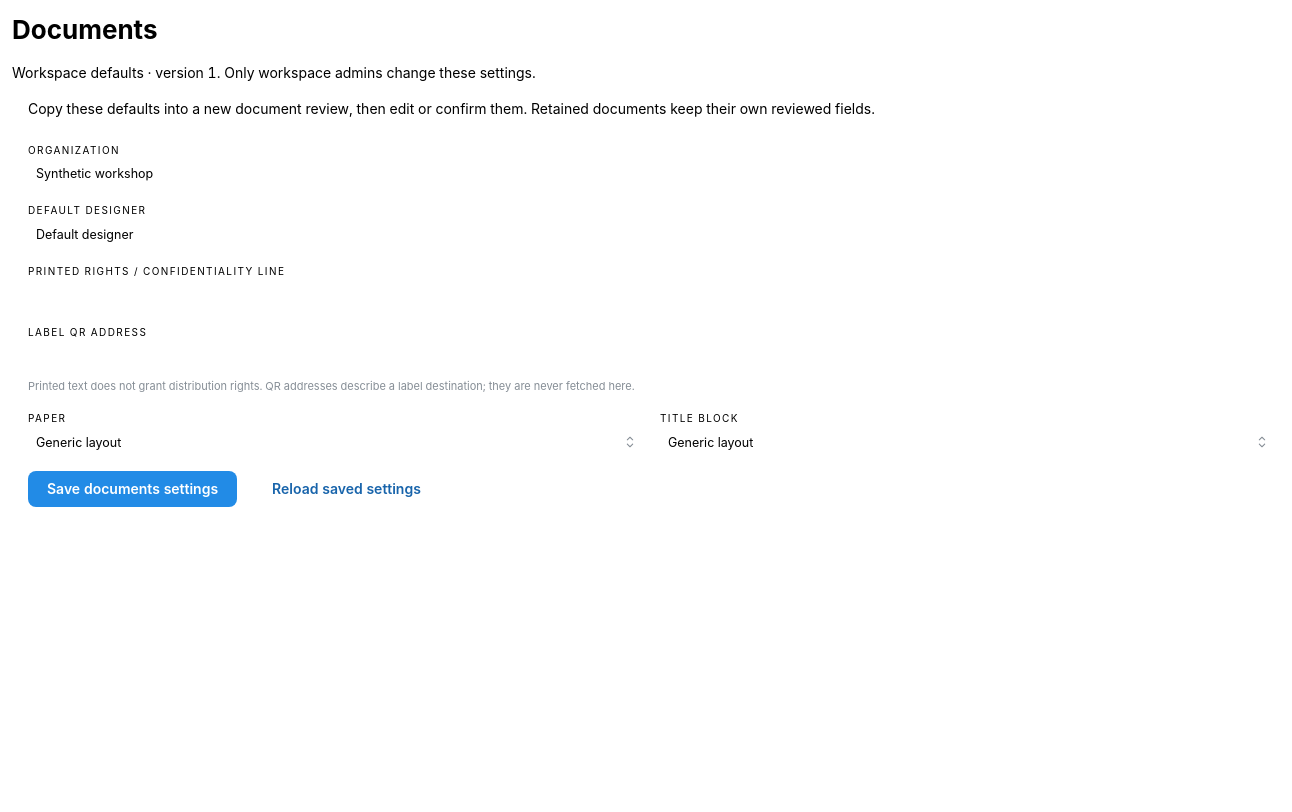
it: admin settings preserve prepared edits and original token after a conflict
Step 1. Replace the text in the field labelled "Organization" with "Prepared workshop" → (652, 174), box x1=28 y1=160 x2=1276 y2=186
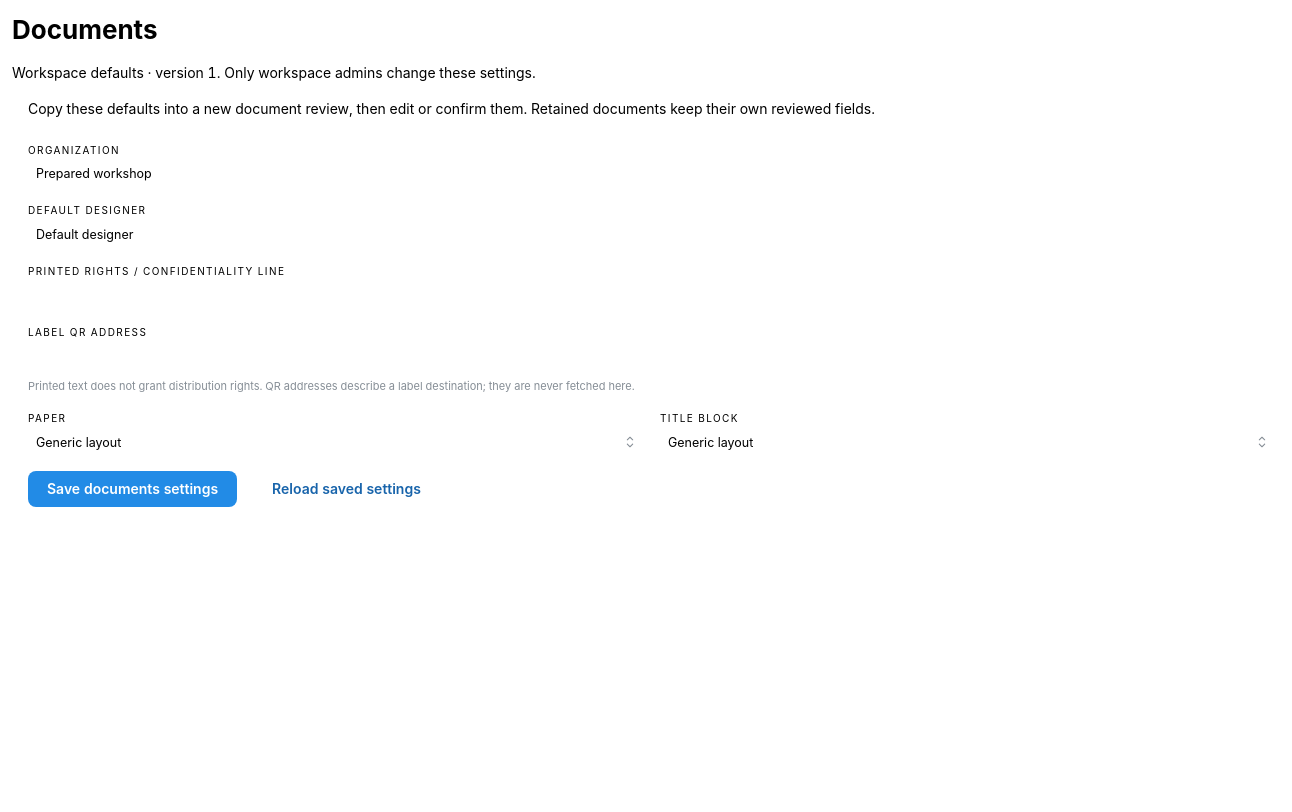
Step 2. Click the button "Save documents settings" → click(133, 489), box x1=28 y1=471 x2=237 y2=507
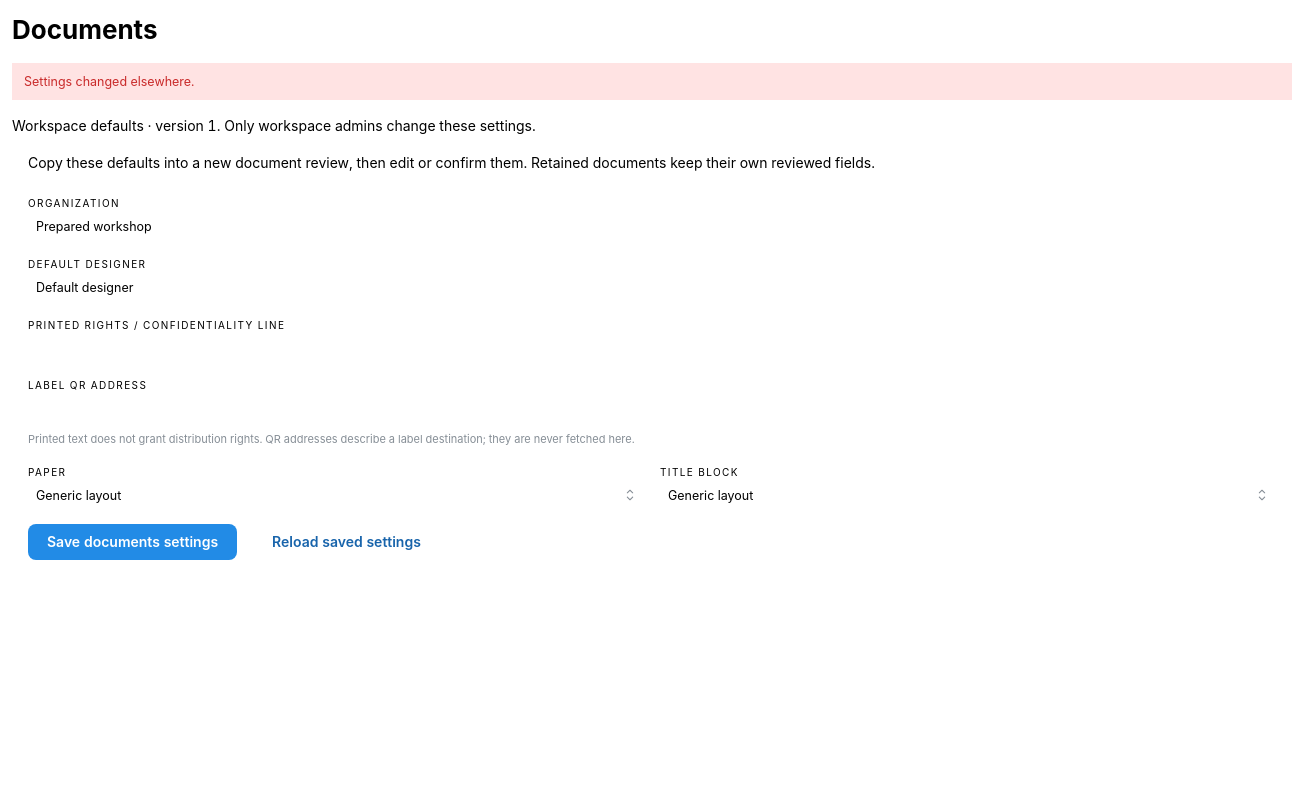
expect the text "Settings changed elsewhere." is shown: met, box x1=24 y1=74 x2=194 y2=89
